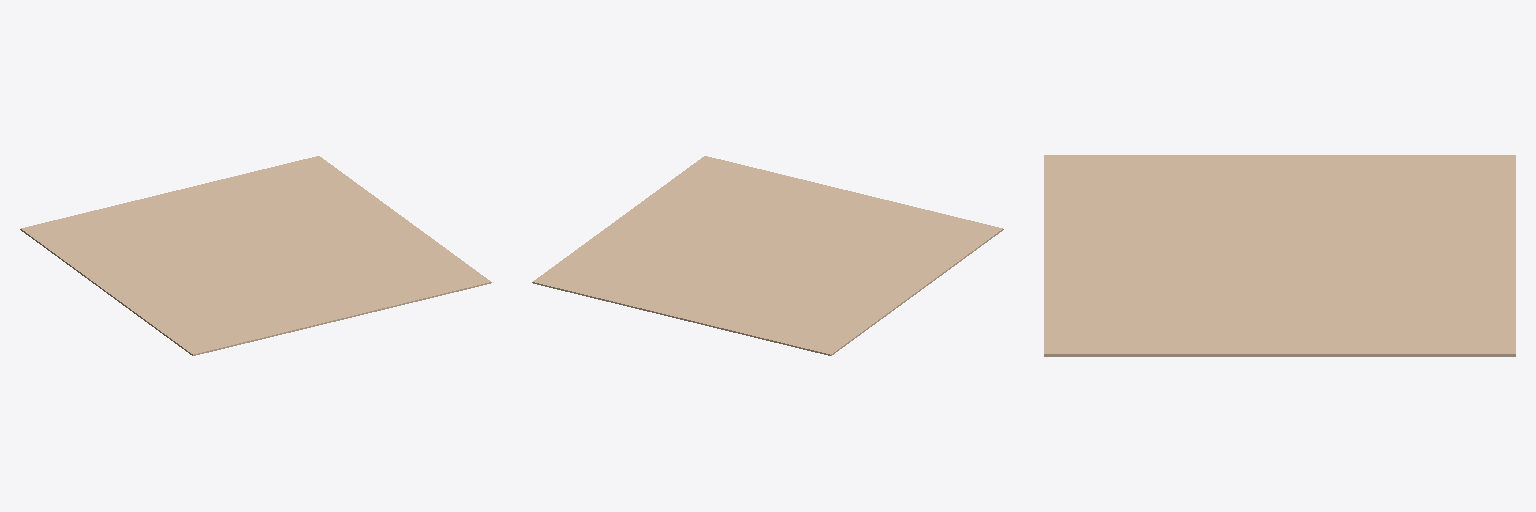
URDF robot description (table_top):
<?xml version="1.0"?>
<robot name="table_top" xmlns:drake="http://drake.mit.edu">
  <link name="table_top_link">
    <inertial>
      <inertia ixx="2.5062" ixy="0" ixz="0" iyy="0.90625" iyz="0" izz="3.4"/>
      <mass value="30"/>
      <origin rpy="0 0 0" xyz="0 0 0"/>
    </inertial>
    <visual name="visual">
      <geometry>
        <box size="10 10 0.05"/>
      </geometry>
      <material>
       <color rgba="0.9 0.8 0.7 0.5"/>
      </material>
    </visual>
    <collision name="collision">
      <geometry>
        <box size="10 10 0.05"/>
      </geometry>
      <drake:proximity_properties>
        <drake:compliant_hydroelastic/>
        <drake:hydroelastic_modulus value="1e7"/>
        <drake:mu_dynamic value="0.5"/>
        <drake:hunt_crossley_dissipation value="1.25"/>
      </drake:proximity_properties>
    </collision>
  </link>
  <frame name="top_surface" link="table_top_link" xyz="0 0 0.025" rpy="0 0 0"/>
</robot>

--- Facts derived from the render (not from the file) ---
Views: 3 orthographic renders of the robot side by side, from view 1: azimuth 30°, elevation 25°; view 2: azimuth 150°, elevation 25°; view 3: azimuth 270°, elevation 25°.
Robot: table_top — 1 links, 0 joints (none); root link table_top_link; default pose: all joints at 0.
Links seen in each view (by area): view 1: table_top_link; view 2: table_top_link; view 3: table_top_link.
Link boxes in pixels (box(x1,y1,x2,y2)): table_top_link: box(20, 156, 491, 355); table_top_link: box(532, 156, 1003, 355); table_top_link: box(1044, 155, 1515, 356).
Size in the robot's own frame: 10 by 10 by 0.05 metres.
Geometry: primitives only (box / cylinder / sphere), no mesh files.
